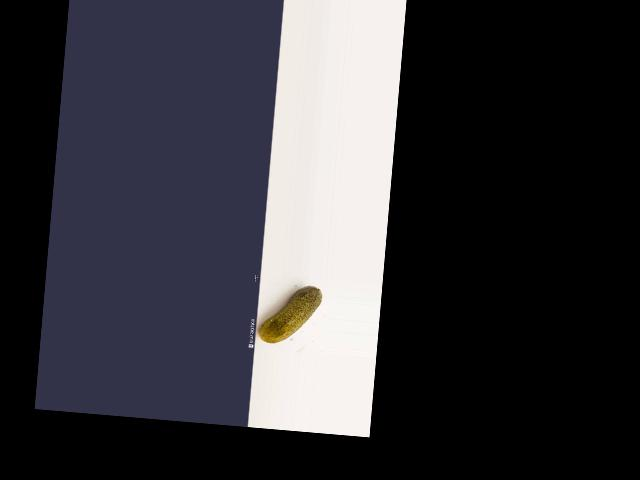cucumber: (257, 281, 322, 347)
